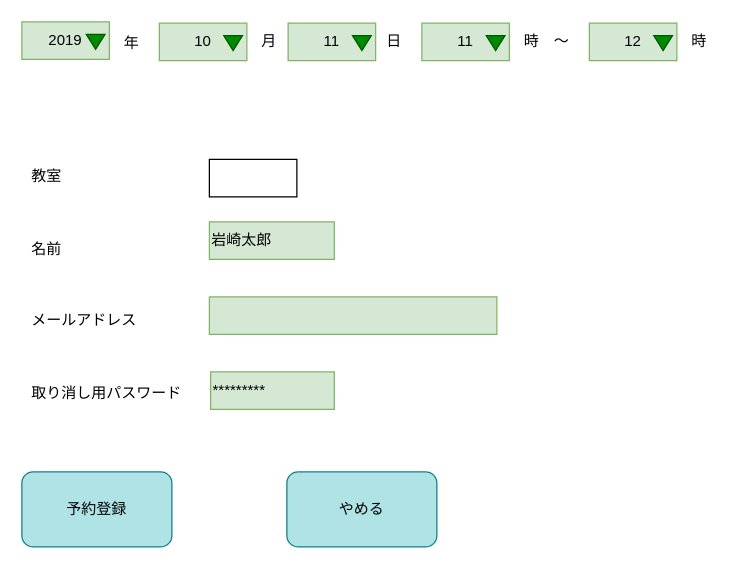
This 749x569 diagram has some shape labels left out. The shapes that lost their labels are listed below. From the top down, each one's centre as x and y in pixels, then its label:
At pixel 252 177: "808教室".
At pixel 352 315: "testiwasaki@gn.iwasaki.ac.jp".
